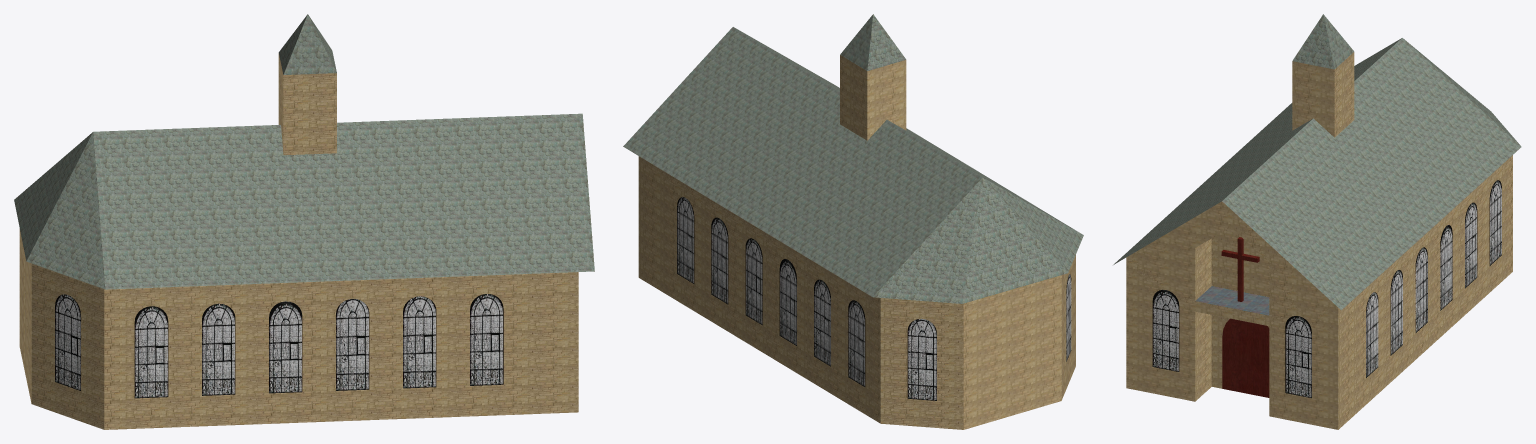
File: GMLID_BUI46739_1739_10911.dae
3 views of the same model, side by side, from view 1: azimuth 30°, elevation 25°; view 2: azimuth 150°, elevation 25°; view 3: azimuth 270°, elevation 25° (orthographic). The views are drawn at different scales.
Bounding box in the file's own units: 26.9 × 21 × 17.4.
7 materials, 6 textured.
